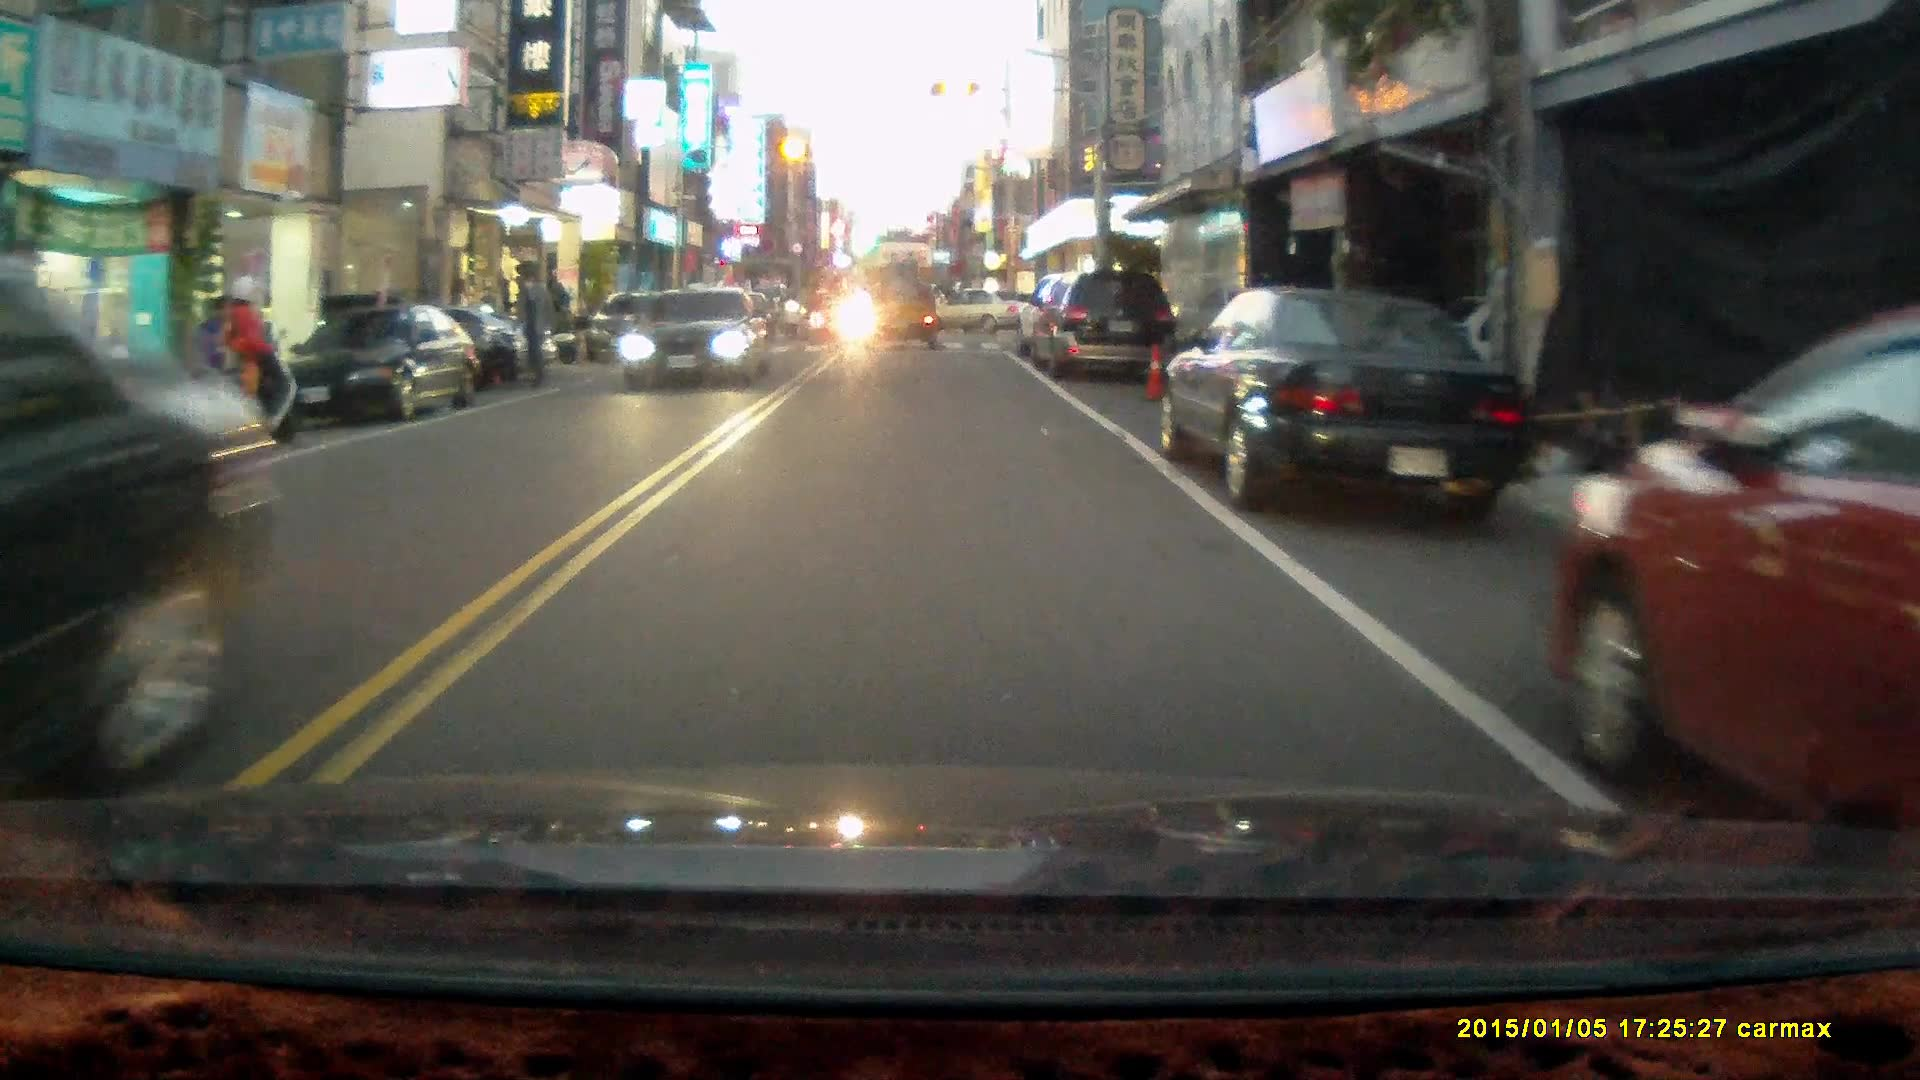pedestrian: (516, 267, 557, 389)
rider: (184, 274, 303, 445)
vehicle: (1554, 300, 1920, 855), (1, 254, 282, 805), (1155, 286, 1537, 530), (268, 297, 474, 420), (1025, 271, 1181, 383), (622, 283, 773, 389), (866, 266, 942, 355), (918, 286, 1048, 336)
